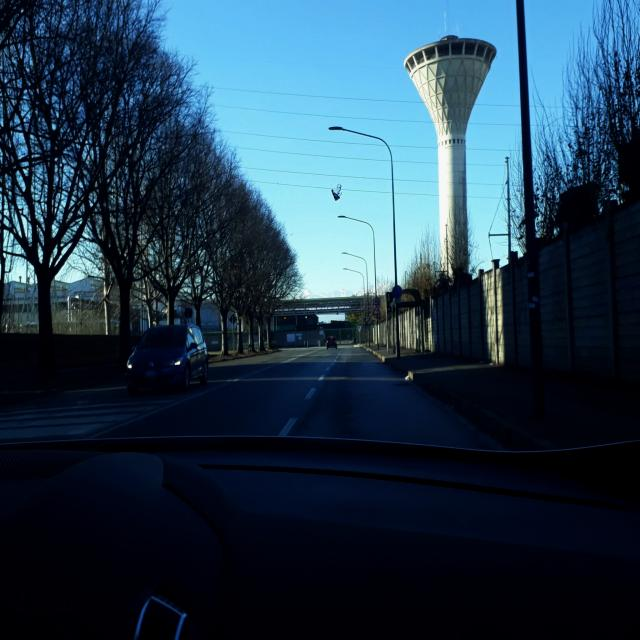car: (125, 323, 209, 395), (326, 336, 338, 350)
